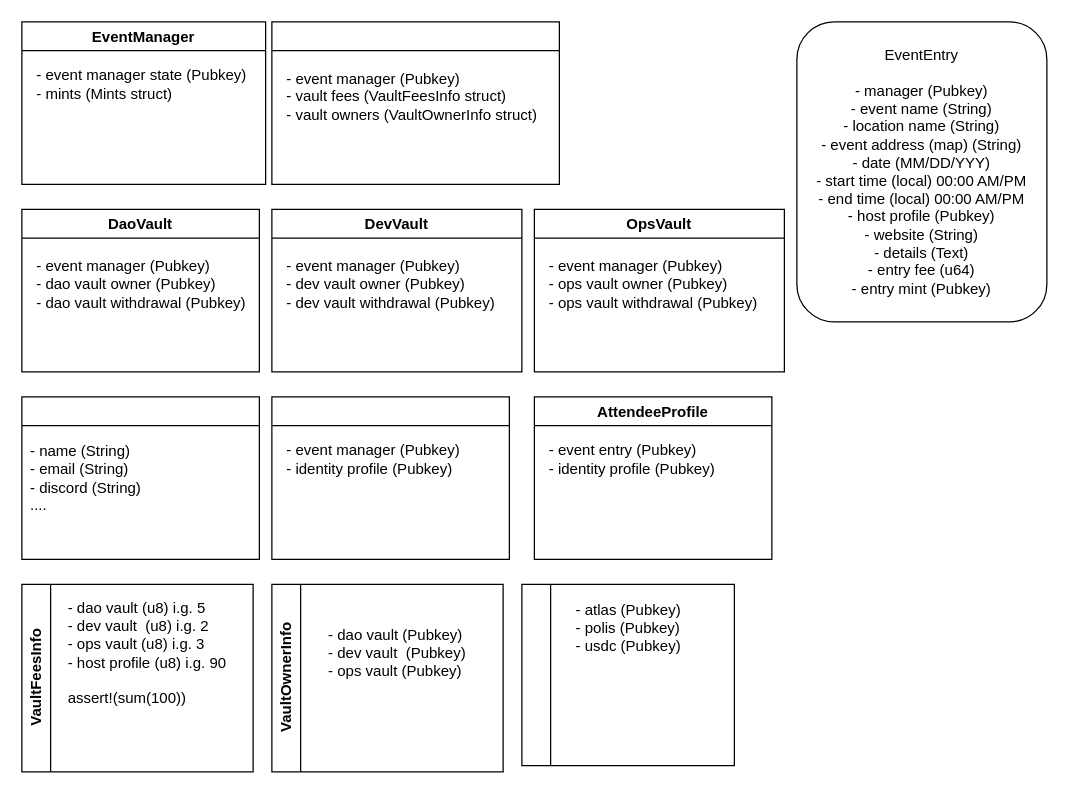
Some shapes in this 1069 by 794 pixel diagram are drawn without their labels. The shapes that lost their labels are listed below. From the top down, each one's box as (x1, y1, x2, y2) in pixels, then its label:
(271, 21, 559, 184): EventManagerState
(21, 396, 259, 559): IdentityProfile
(271, 396, 509, 559): HostProfile
(521, 583, 734, 766): Mints
